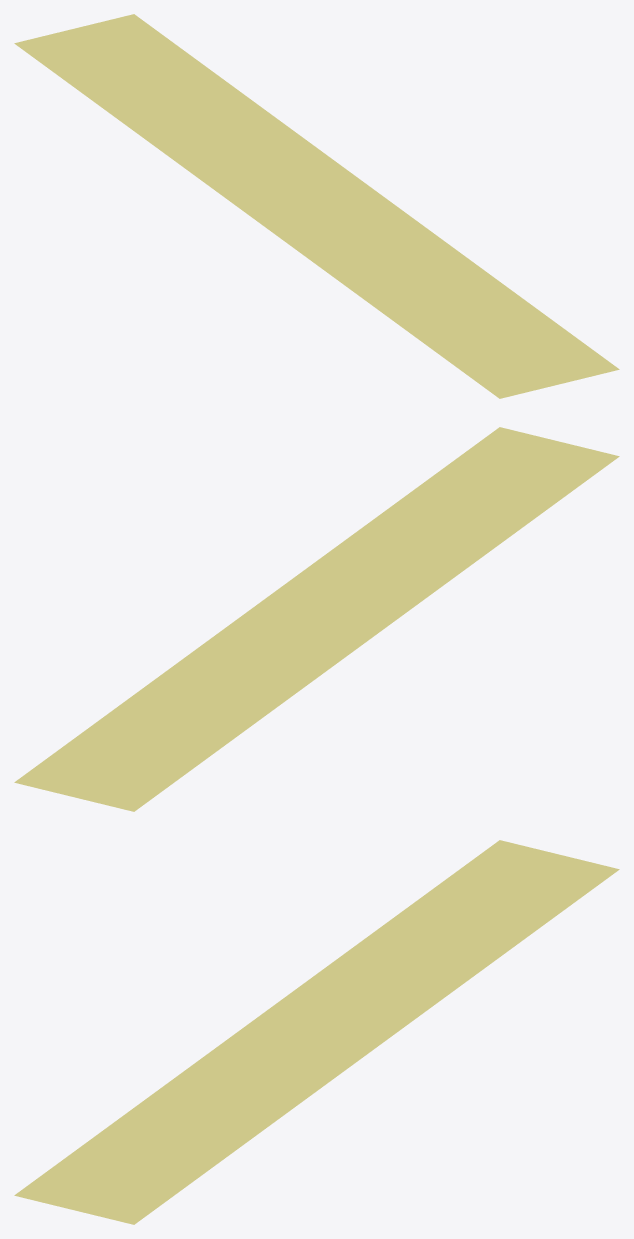
File: Ceiling_1x_7x.FBX
The picture shows the model from 3 angles, top to bottom: view 1: azimuth 30°, elevation 25°; view 2: azimuth 150°, elevation 25°; view 3: azimuth 330°, elevation 25°; orthographic projection.
Visible parts, largest first — view 1: Ceiling_1x_7x; view 2: Ceiling_1x_7x; view 3: Ceiling_1x_7x.
Part boxes in pixels (left/top/right/bottom): Ceiling_1x_7x: left=14, top=14, right=619, bottom=398; Ceiling_1x_7x: left=14, top=427, right=619, bottom=811; Ceiling_1x_7x: left=14, top=840, right=619, bottom=1224.
Bounding box in the file's own units: 100 × 700 × 3.06e-05.
